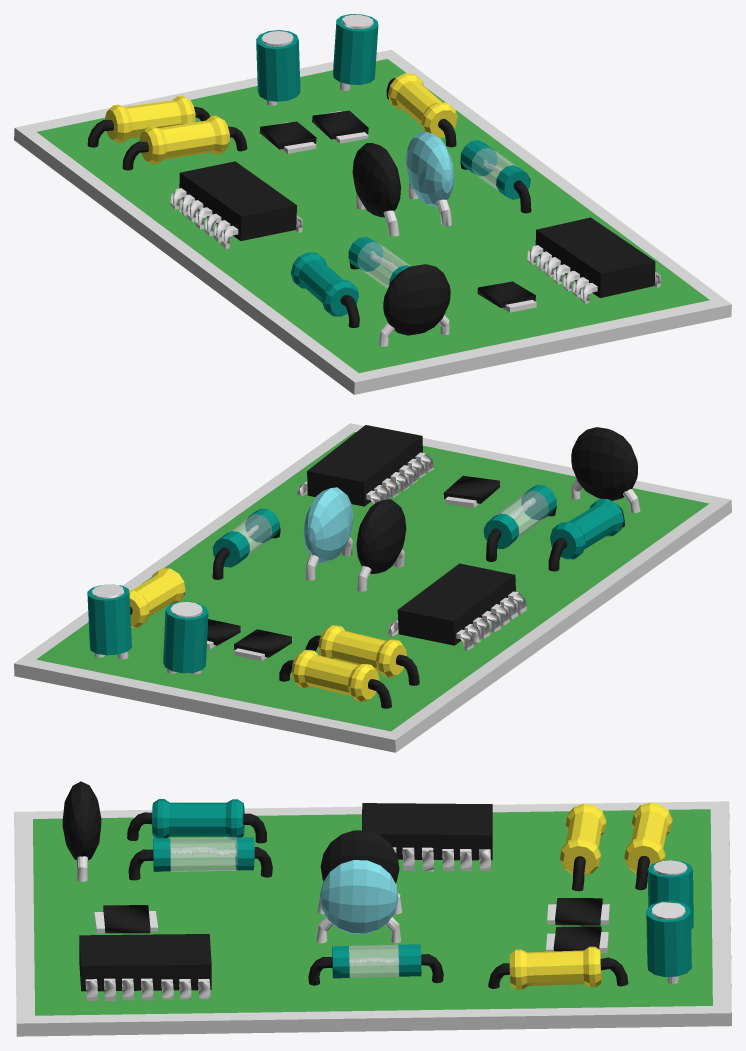
The model's file is circuit 2.fbx.
3 views of the same model, one above another, from view 1: azimuth 30°, elevation 25°; view 2: azimuth 150°, elevation 25°; view 3: azimuth 270°, elevation 25° (orthographic). The views are drawn at different scales.
Parts seen in each view (by area): view 1: group502520534; view 2: group502520534; view 3: group502520534.
Boxes of the visible parts, x1,y1,x2,y2 form: group502520534: (14,14,731,394); group502520534: (14,423,731,752); group502520534: (14,781,731,1036).
Size of the model in its own units: 91.95 by 23.08 by 141.
